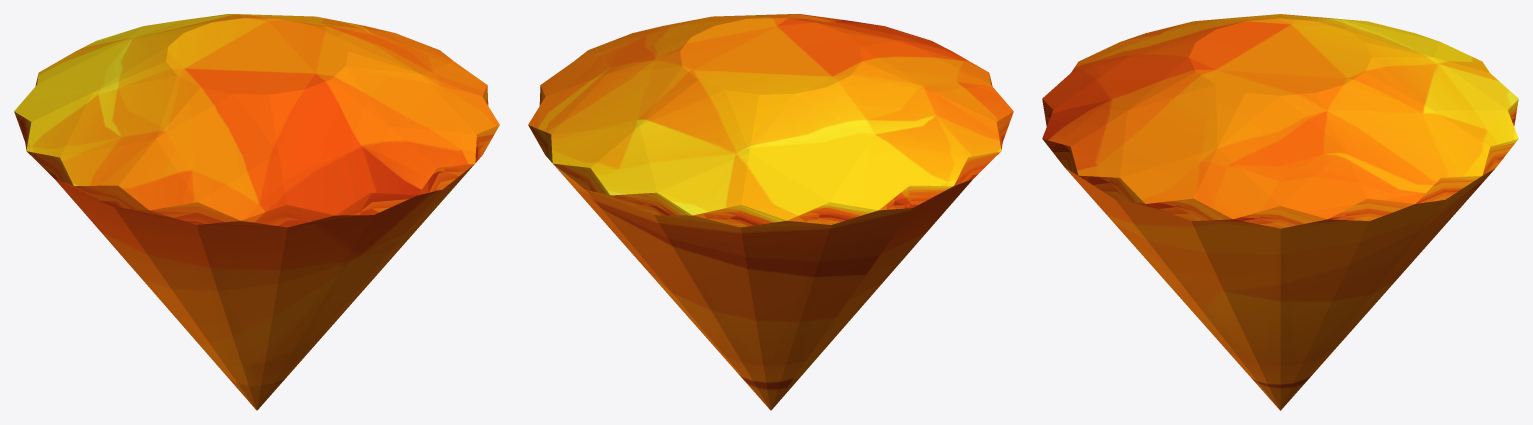
The model's file is NextGem.glb.
3 renders of one model, left to right at view 1: azimuth 30°, elevation 25°; view 2: azimuth 150°, elevation 25°; view 3: azimuth 270°, elevation 25°, orthographic.
Visible parts, largest first — view 1: pCone1; view 2: pCone1; view 3: pCone1.
Part boxes in pixels (x1,y1,x2,y2): pCone1: (14,14,499,410); pCone1: (528,14,1013,410); pCone1: (1042,14,1518,410).
Bounding box in the file's own units: 1.11 × 0.9128 × 1.11.
1 material, 1 textured.
